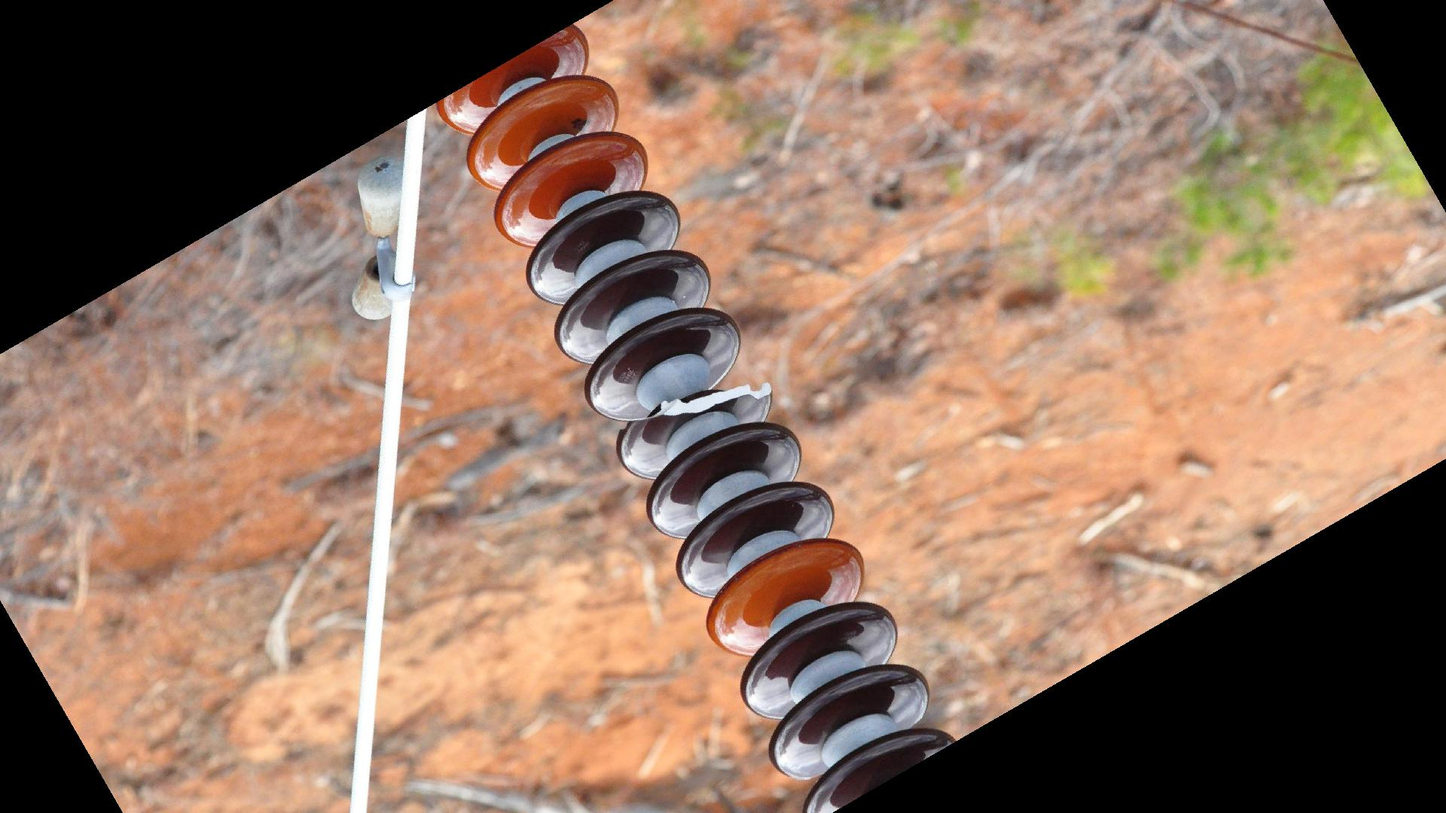insulator: (432, 19, 962, 813)
insulator_breakage: (618, 377, 776, 436)
